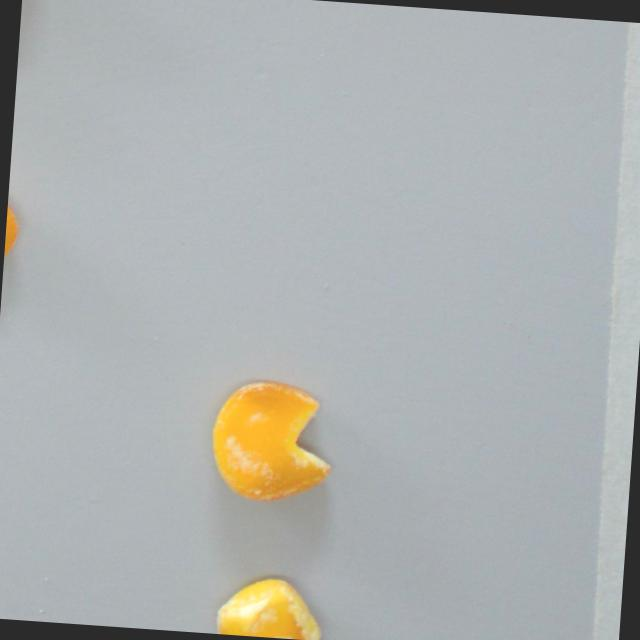dañado: (3, 164, 26, 274)
pelicula: (204, 376, 336, 506), (213, 572, 323, 640)
